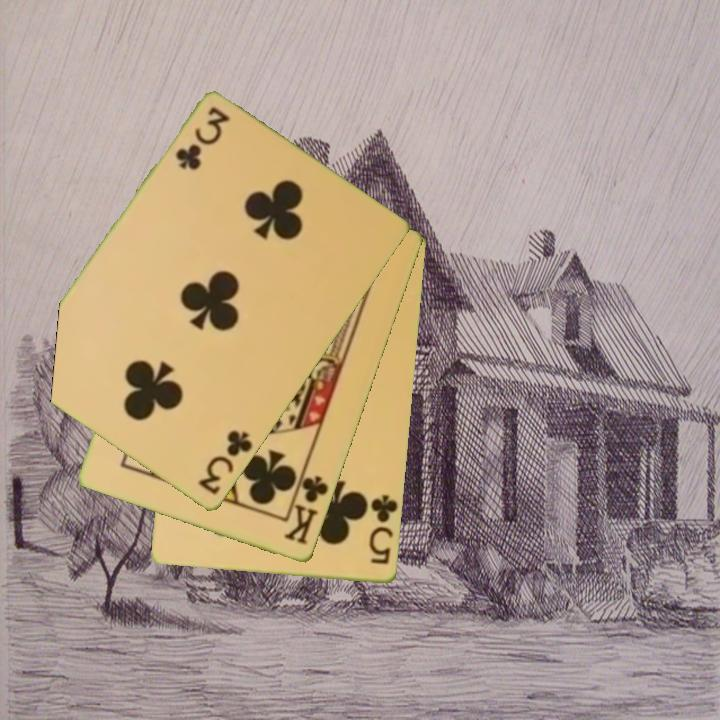3c: (195, 427, 256, 499), (172, 103, 232, 174)
5c: (364, 491, 400, 568)
Kc: (280, 465, 332, 548)
